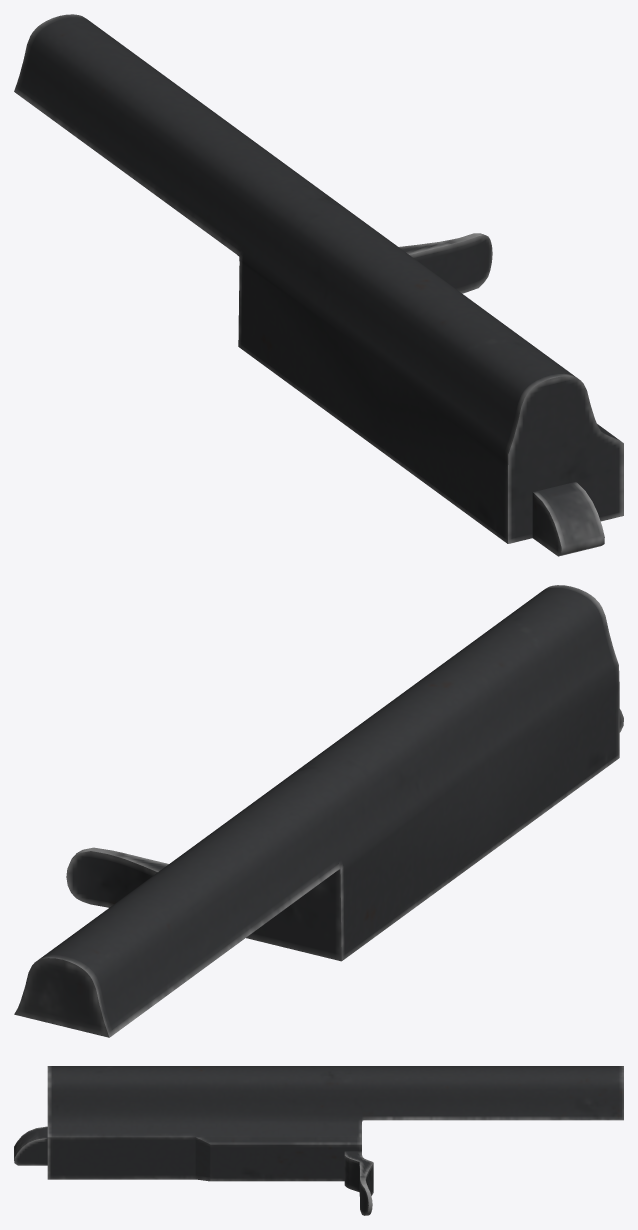
Rendered from ak-74m_shutter_fire.fbx.
3 renders of one model, top to bottom at view 1: azimuth 30°, elevation 25°; view 2: azimuth 150°, elevation 25°; view 3: azimuth 270°, elevation 25°, orthographic. The views are drawn at different scales.
Parts seen in each view (by area): view 1: Shutter_lowT; view 2: Shutter_lowT; view 3: Shutter_lowT.
Part boxes in pixels (box(x1,y1,x2,y2)): Shutter_lowT: box(14, 14, 623, 556); Shutter_lowT: box(14, 585, 623, 1037); Shutter_lowT: box(14, 1066, 623, 1215).
Size of the model in its own units: 0.0519 by 0.0296 by 0.1809.
Materials: 1 (1 with a texture image).
